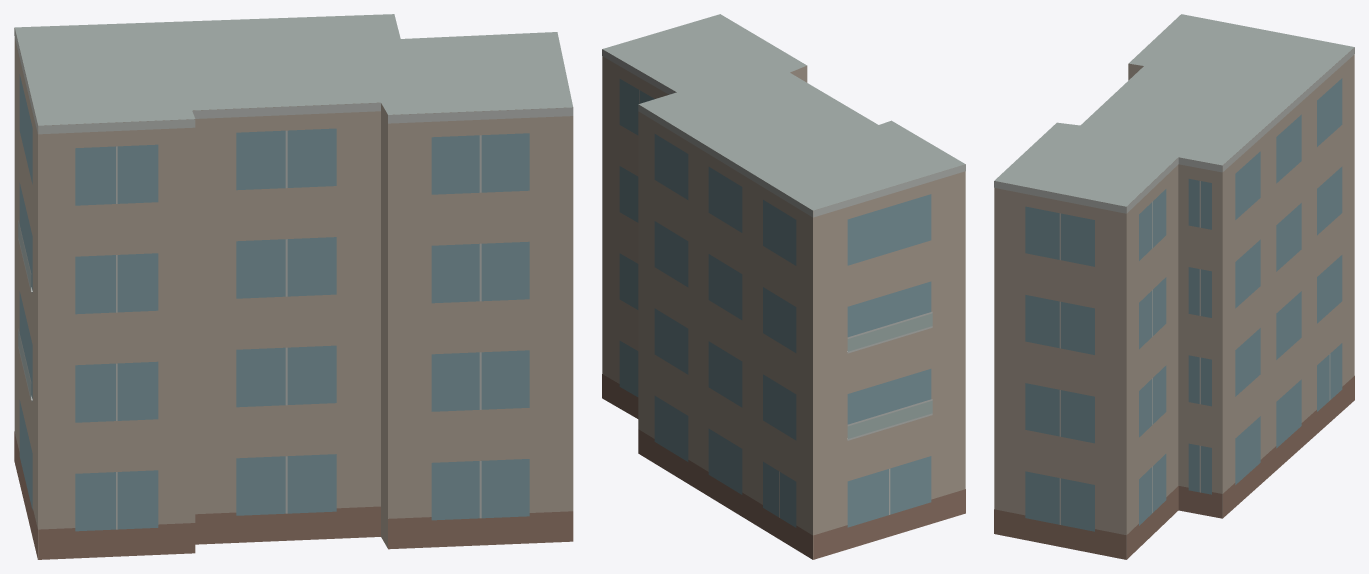
File: survey-upis-32499223.glb
3 views of the same model, side by side, from view 1: azimuth 30°, elevation 25°; view 2: azimuth 150°, elevation 25°; view 3: azimuth 270°, elevation 25° (orthographic). The views are drawn at different scales.
Parts seen in each view (by area): view 1: survey-upis-32499223.tmp; view 2: survey-upis-32499223.tmp; view 3: survey-upis-32499223.tmp.
Part boxes in pixels (x1,y1,x2,y2): survey-upis-32499223.tmp: (14, 14, 573, 559); survey-upis-32499223.tmp: (602, 14, 965, 559); survey-upis-32499223.tmp: (994, 14, 1354, 559).
Size of the model in its own units: 14.35 by 12.25 by 11.35.
